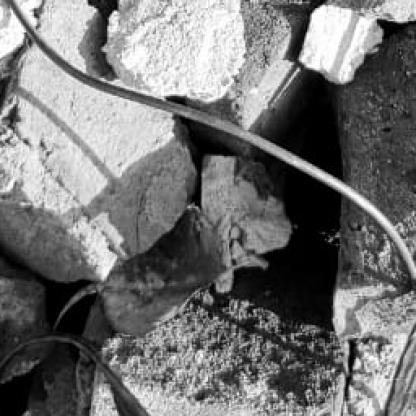cementitious_debris: (1, 2, 413, 413)
